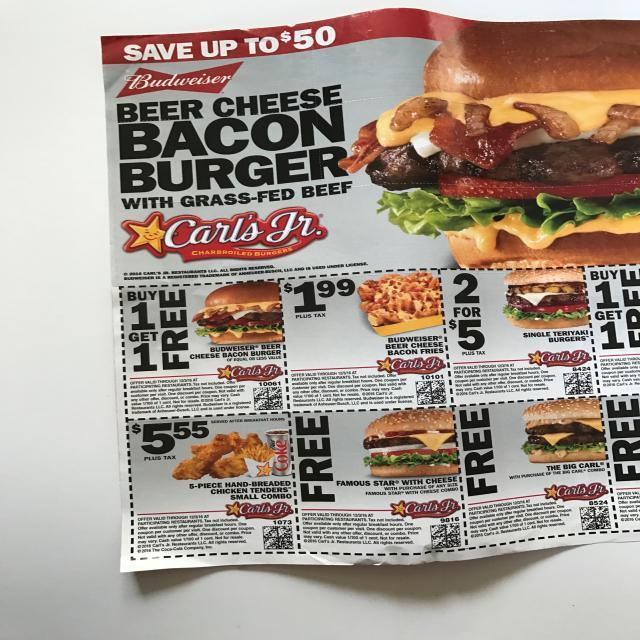paper: (94, 7, 640, 575)
